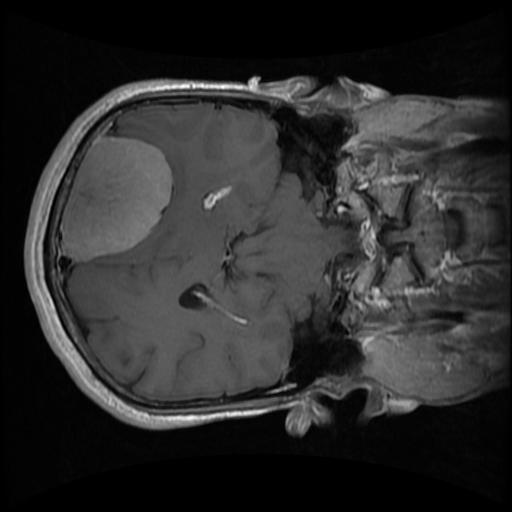meningioma: (58, 135, 174, 262)
